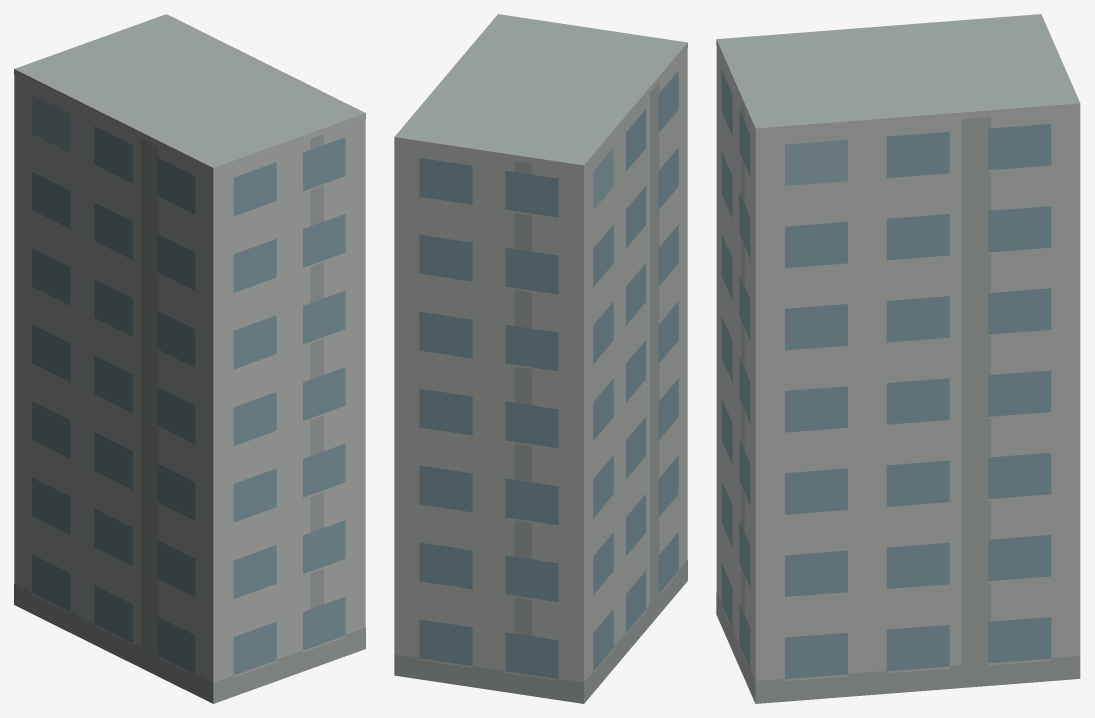
The model's file is survey-upis-33038670.glb.
The picture shows the model from 3 angles, left to right: view 1: azimuth 30°, elevation 25°; view 2: azimuth 150°, elevation 25°; view 3: azimuth 270°, elevation 25°; orthographic projection. The views are drawn at different scales.
Visible parts, largest first — view 1: survey-upis-33038670.tmp; view 2: survey-upis-33038670.tmp; view 3: survey-upis-33038670.tmp.
Part boxes in pixels (box(x1,y1,x2,y2)): survey-upis-33038670.tmp: box(14, 14, 365, 703); survey-upis-33038670.tmp: box(394, 14, 687, 703); survey-upis-33038670.tmp: box(716, 14, 1080, 703).
Size of the model in its own units: 9.48 by 22.2 by 12.74.
